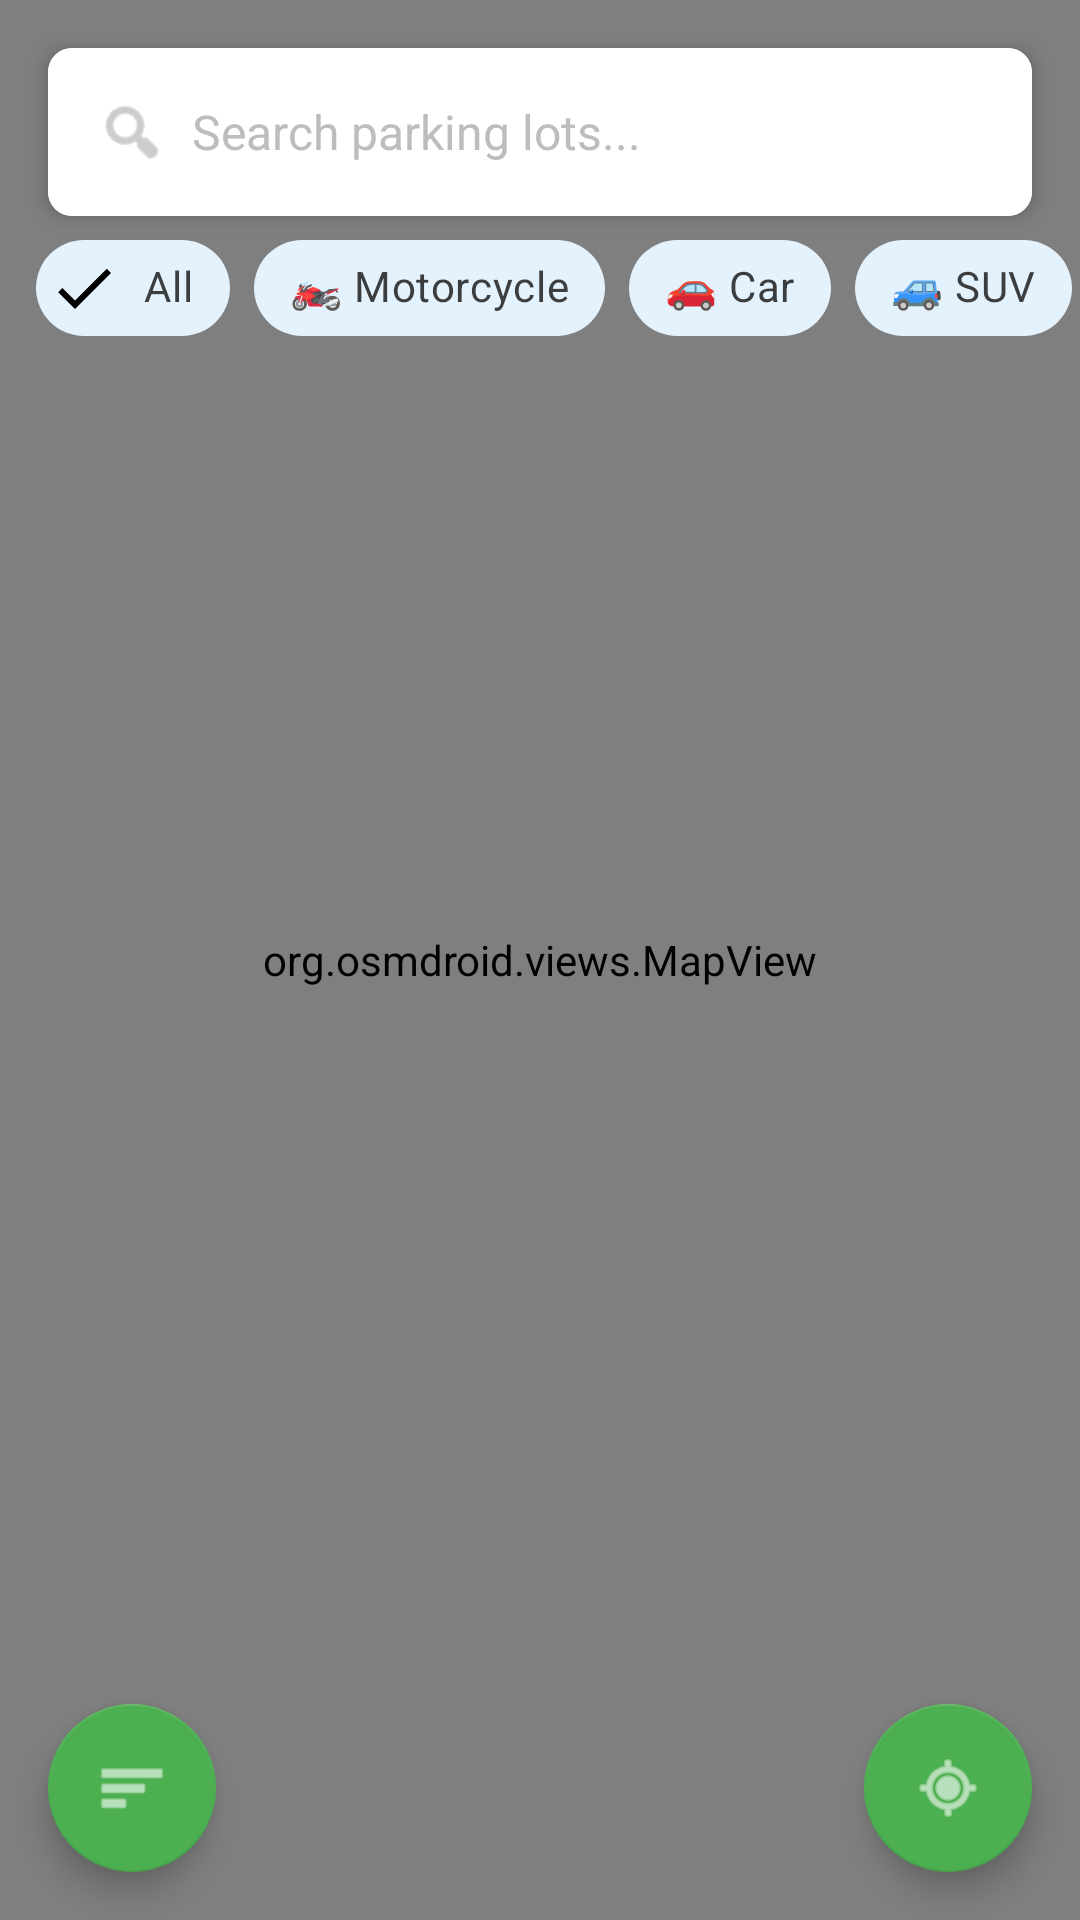

Named icons in this screenshot (1080w x 1920h) and their centers, [x,y]:
My location: [948,1788]
Toggle list view: [132,1788]
